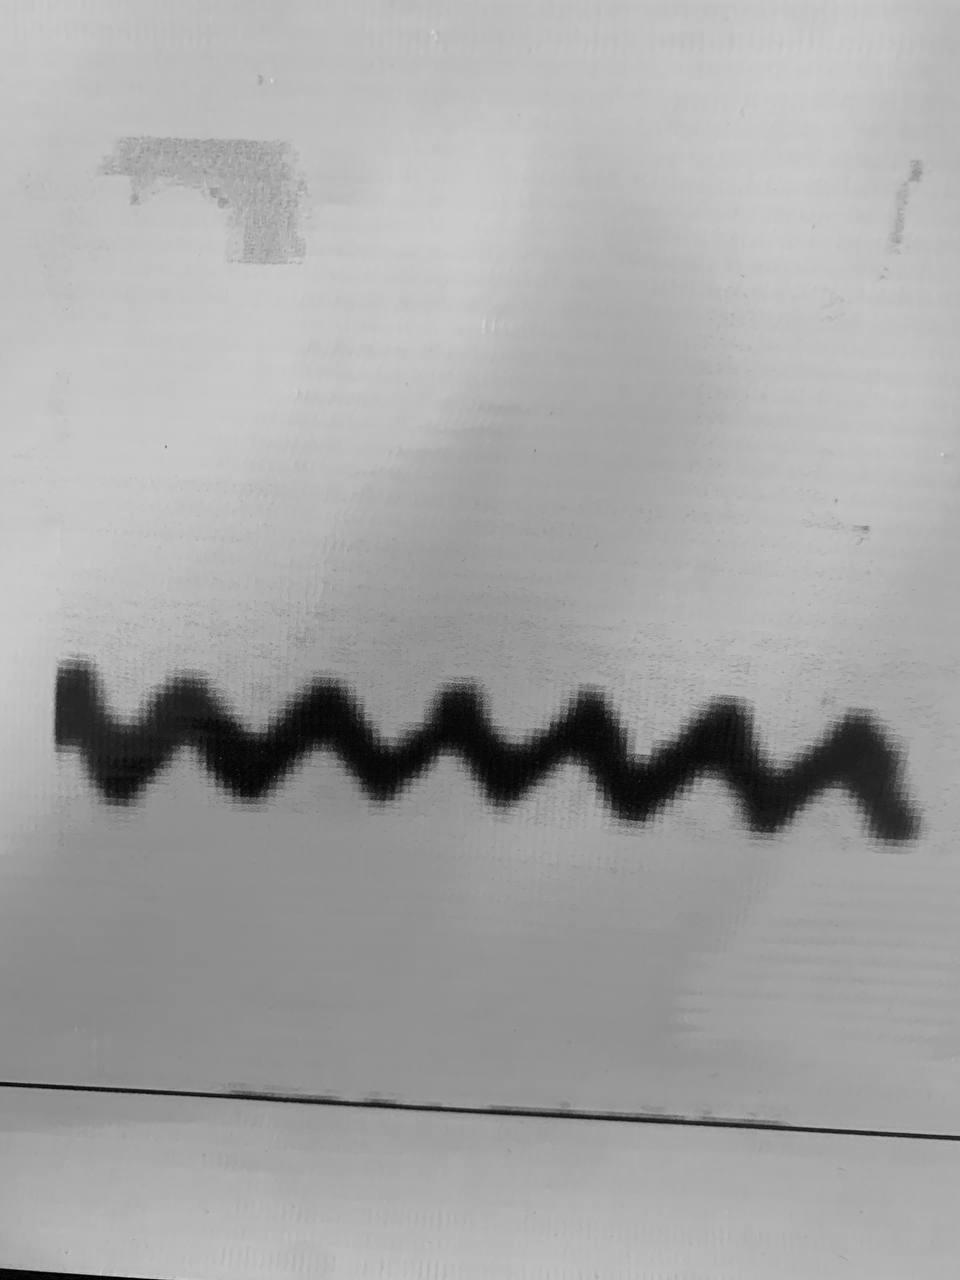Water: (32, 634, 928, 860)
